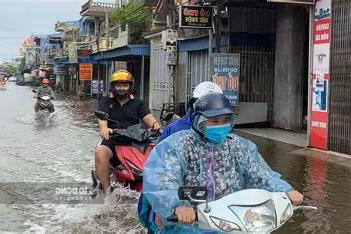ROAD_FLOODING: (0, 81, 176, 231)
